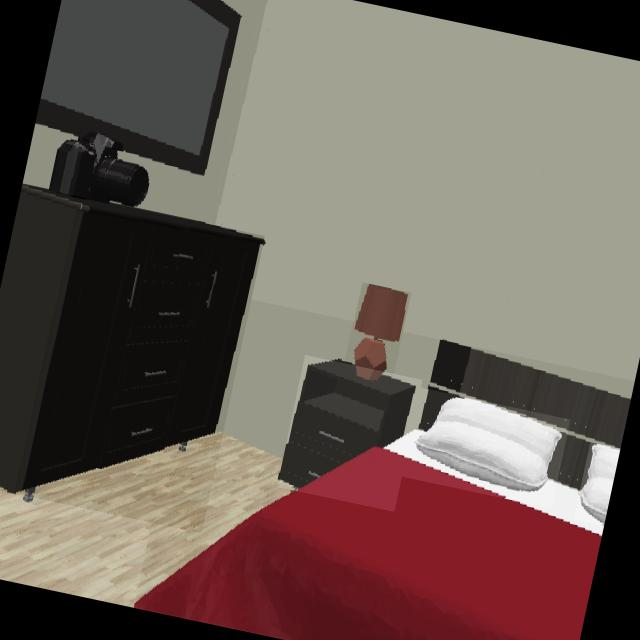bed: (134, 342, 630, 640)
cabinet: (0, 187, 262, 494)
lamp: (349, 284, 408, 386)
nighttable: (279, 361, 417, 489)
pillow: (383, 399, 567, 500), (578, 445, 619, 524)
